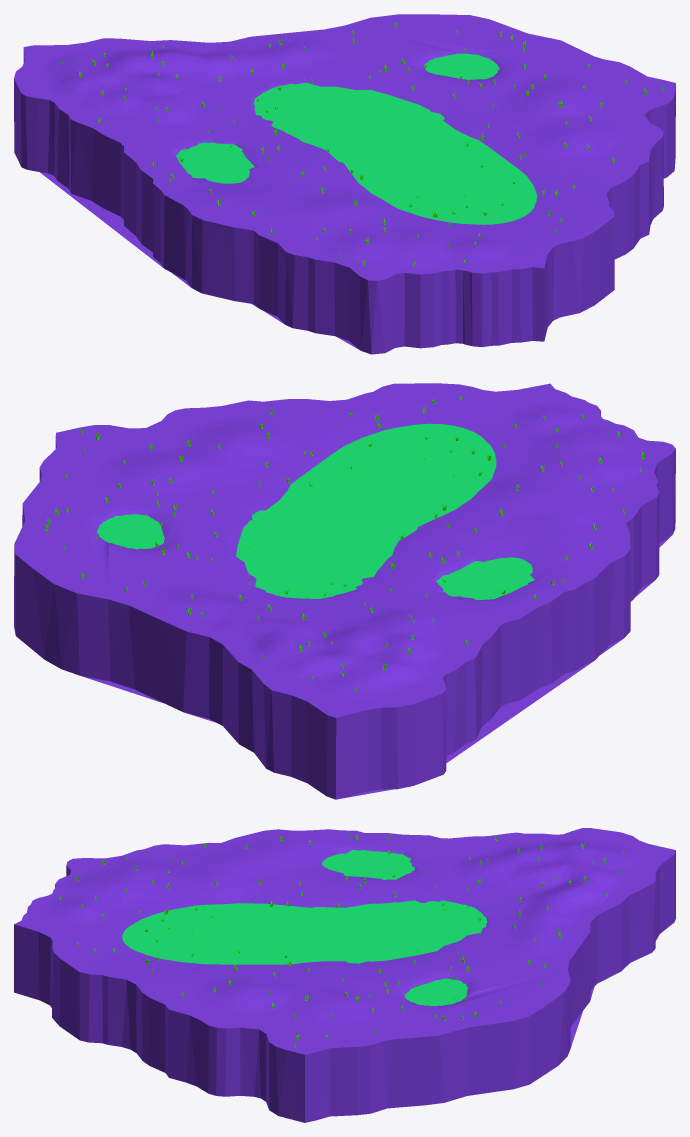
File: DesolateLevelPart2.fbx
3 renders of one model, top to bottom at view 1: azimuth 30°, elevation 25°; view 2: azimuth 150°, elevation 25°; view 3: azimuth 270°, elevation 25°, orthographic. The views are drawn at different scales.
Visible parts, largest first — view 1: Demon_Desolate_Part2_Level, Demon_Desolate_Part2_Lake_Level; view 2: Demon_Desolate_Part2_Level, Demon_Desolate_Part2_Lake_Level; view 3: Demon_Desolate_Part2_Level, Demon_Desolate_Part2_Lake_Level.
Part boxes in pixels (x1=…): Demon_Desolate_Part2_Level: x1=14, y1=14, x2=675, y2=354; Demon_Desolate_Part2_Lake_Level: x1=176, y1=53, x2=537, y2=224; Demon_Desolate_Part2_Level: x1=14, y1=383, x2=675, y2=799; Demon_Desolate_Part2_Lake_Level: x1=97, y1=423, x2=534, y2=600; Demon_Desolate_Part2_Level: x1=14, y1=828, x2=675, y2=1122; Demon_Desolate_Part2_Lake_Level: x1=122, y1=850, x2=487, y2=1005.
Bounding box in the file's own units: 1428 × 1759 × 231.
